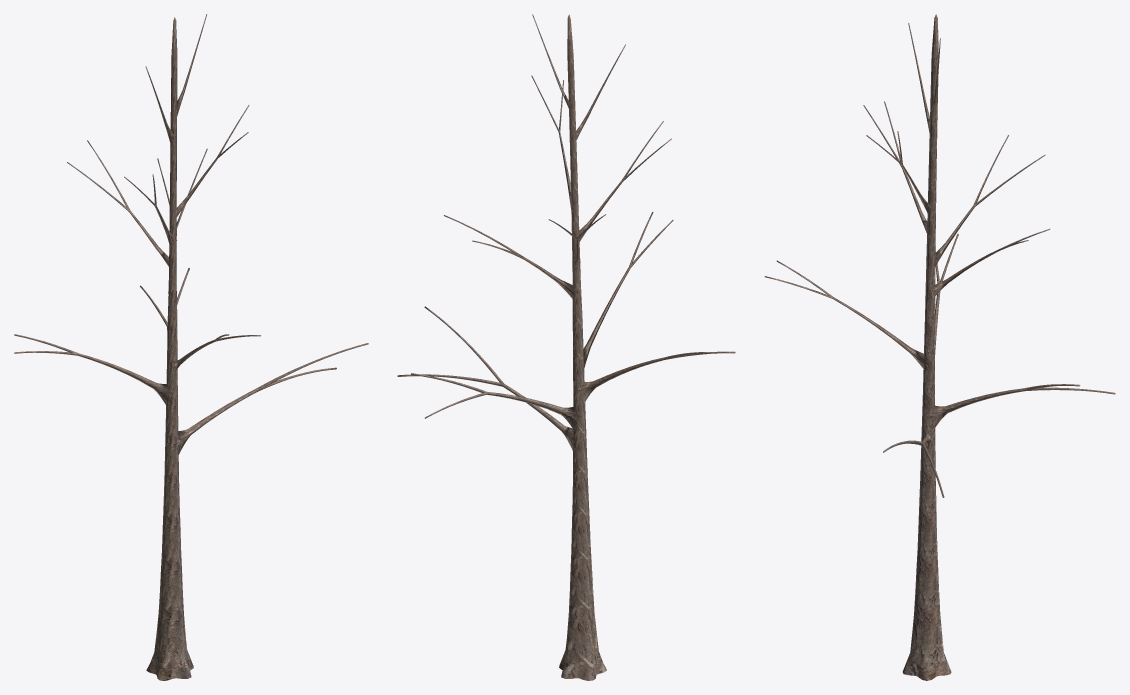
File: tree_a.glb
The picture shows the model from 3 angles, left to right: view 1: azimuth 30°, elevation 25°; view 2: azimuth 150°, elevation 25°; view 3: azimuth 270°, elevation 25°; orthographic projection.
Visible parts, largest first — view 1: tree; view 2: tree; view 3: tree.
Boxes of the visible parts, bbox=[...] form: tree: bbox=[14, 14, 368, 680]; tree: bbox=[397, 14, 735, 680]; tree: bbox=[764, 14, 1115, 680].
Size of the model in its own units: 42.44 by 79.73 by 38.44.
1 material, 1 textured.
